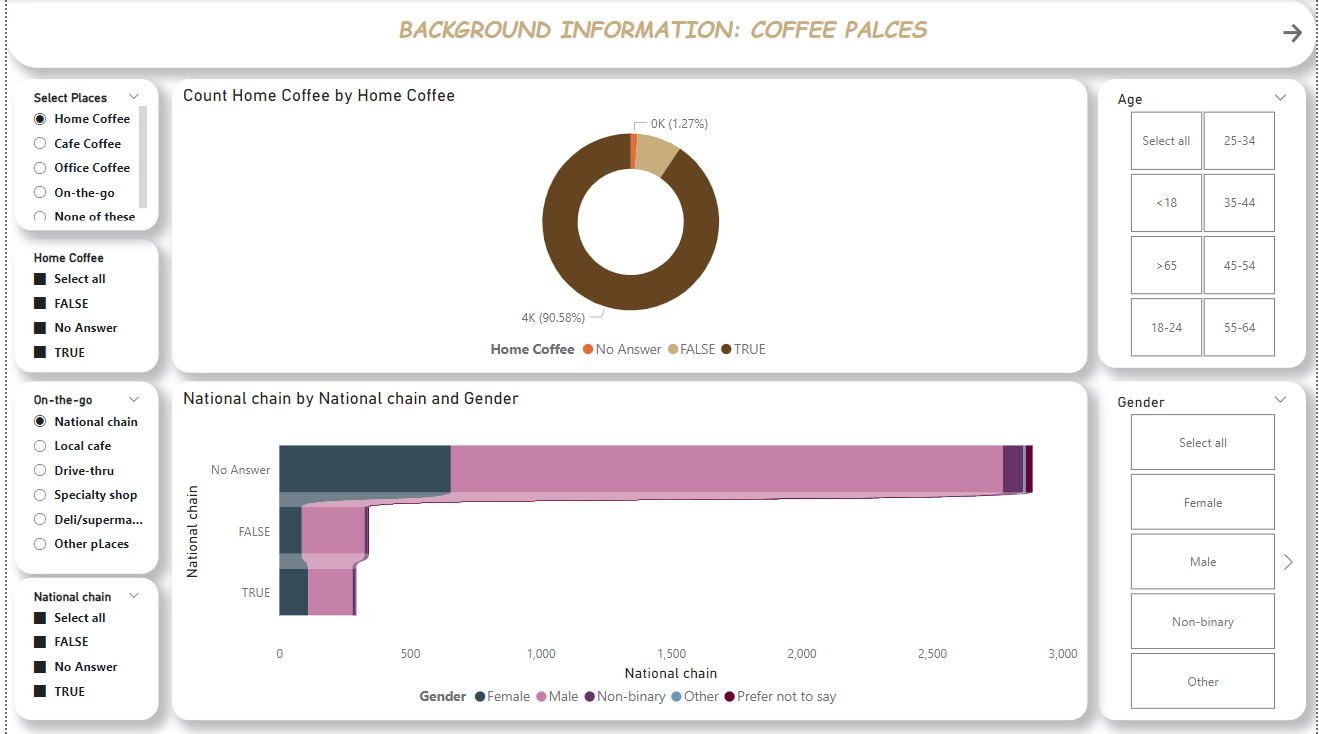

The dashboard page shown, as its layout file describes it:
{"tool":"powerbi","page":{"name":"Coffee Places","canvas":[1280,720],"ordinal":1},"visuals":[{"type":"textbox","box":[0,0,1279.9,67.2],"z":0},{"type":"slicer","fields":{"Values":["Coffee.Home Coffee"]},"box":[7.1,234.5,140.6,130.8],"z":1000},{"type":"slicer","fields":{"Values":["Parameter.Parameter"]},"box":[7.3,78.2,140.6,147.9],"z":2000},{"type":"donutChart","fields":{"Category":["Coffee.Home Coffee"],"Y":["Coffee.Count Home Coffee"]},"box":[161.4,78.2,894.8,287.3],"z":3000},{"type":"slicer","fields":{"Values":["Coffee.Age"]},"box":[1067.2,78.2,202.9,282.4],"z":4000},{"type":"slicer","fields":{"Values":["Coffee.Gender"]},"box":[1067.2,374.1,202.9,331.3],"z":5000},{"type":"slicer","fields":{"Values":["On-the-go.Parameter"]},"box":[7.1,373.8,140.6,188.3],"z":6000},{"type":"slicer","fields":{"Values":["Coffee.National chain"]},"box":[7.3,566,140.6,139.4],"z":7000},{"type":"barChart","fields":{"Category":["Coffee.National chain"],"Y":["CountNonNull(Coffee.National chain)"],"Series":["Coffee.Gender"]},"box":[161.4,374.1,894.8,331.3],"z":8000},{"type":"actionButton","box":[1243.2,0,26.9,67.2],"z":11000}]}

Visuals, with their boxes in screenshot pixels (x1, y1, x2, y2), scaled from the page's 1280x720 canvas onto the 1319x734 screenshot:
textbox: rect(0, 0, 1318, 69)
slicer - Coffee.Home Coffee: rect(7, 239, 152, 372)
slicer - Parameter.Parameter: rect(8, 80, 152, 230)
donutChart - Coffee.Home Coffee x Coffee.Count Home Coffee: rect(166, 80, 1088, 373)
slicer - Coffee.Age: rect(1100, 80, 1309, 368)
slicer - Coffee.Gender: rect(1100, 381, 1309, 719)
slicer - On-the-go.Parameter: rect(7, 381, 152, 573)
slicer - Coffee.National chain: rect(8, 577, 152, 719)
barChart - Coffee.National chain x CountNonNull(Coffee.National chain): rect(166, 381, 1088, 719)
actionButton: rect(1281, 0, 1309, 69)
